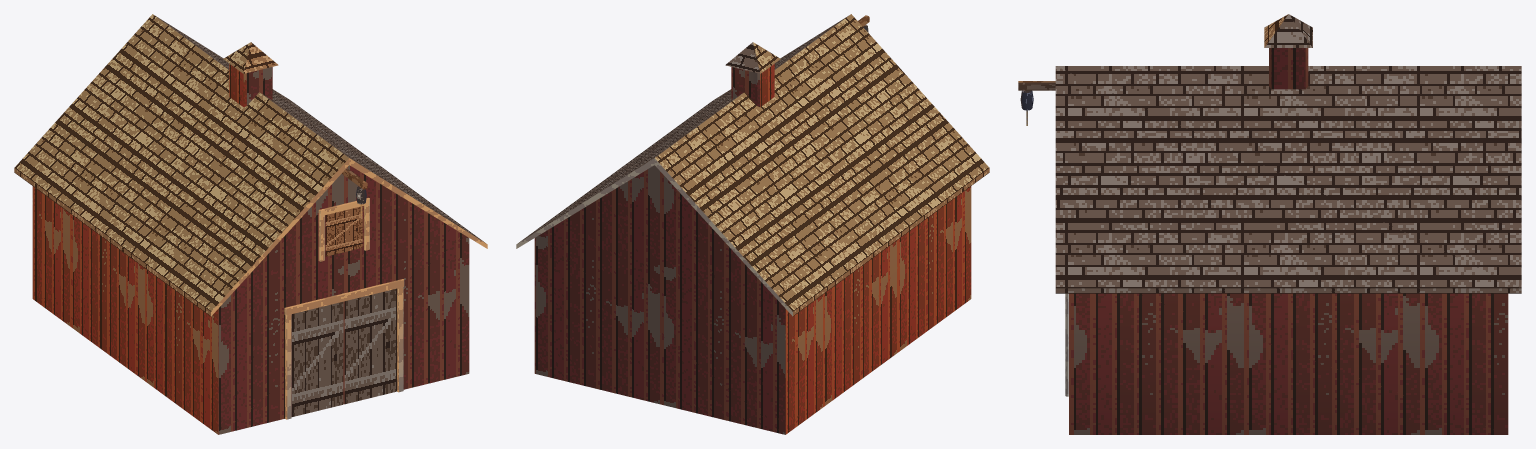
File: wtown.stable__barn.glb
The picture shows the model from 3 angles, left to right: view 1: azimuth 30°, elevation 25°; view 2: azimuth 150°, elevation 25°; view 3: azimuth 270°, elevation 25°; orthographic projection. The views are drawn at different scales.
Parts seen in each view (by area): view 1: kit_roof, kit_body, kit_card_panes, kit_trim, kit_cupola, kit_cupola_cap; view 2: kit_body, kit_roof, kit_cupola, kit_cupola_cap; view 3: kit_roof, kit_body, kit_cupola, kit_cupola_cap, kit_hoist.
Part boxes in pixels (x1=…): kit_roof: x1=14, y1=14, x2=487, y2=316; kit_body: x1=32, y1=165, x2=469, y2=434; kit_card_panes: x1=292, y1=206, x2=395, y2=416; kit_trim: x1=284, y1=198, x2=404, y2=419; kit_cupola: x1=229, y1=64, x2=272, y2=107; kit_cupola_cap: x1=223, y1=42, x2=278, y2=73; kit_body: x1=534, y1=165, x2=971, y2=434; kit_roof: x1=516, y1=14, x2=989, y2=316; kit_cupola: x1=731, y1=64, x2=774, y2=107; kit_cupola_cap: x1=725, y1=42, x2=780, y2=73; kit_roof: x1=1055, y1=66, x2=1521, y2=293; kit_body: x1=1069, y1=293, x2=1508, y2=434; kit_cupola: x1=1269, y1=48, x2=1308, y2=89; kit_cupola_cap: x1=1264, y1=14, x2=1312, y2=47; kit_hoist: x1=1018, y1=81, x2=1055, y2=110.
Bounding box in the file's own units: 8.6 × 8.75 × 11.45.
7 materials, 7 textured.
